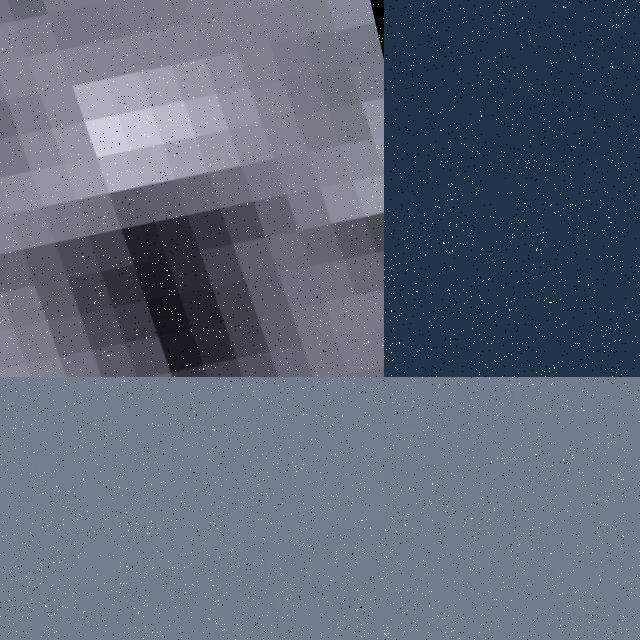0: (0, 0, 384, 377)
drone: (384, 0, 640, 377)
